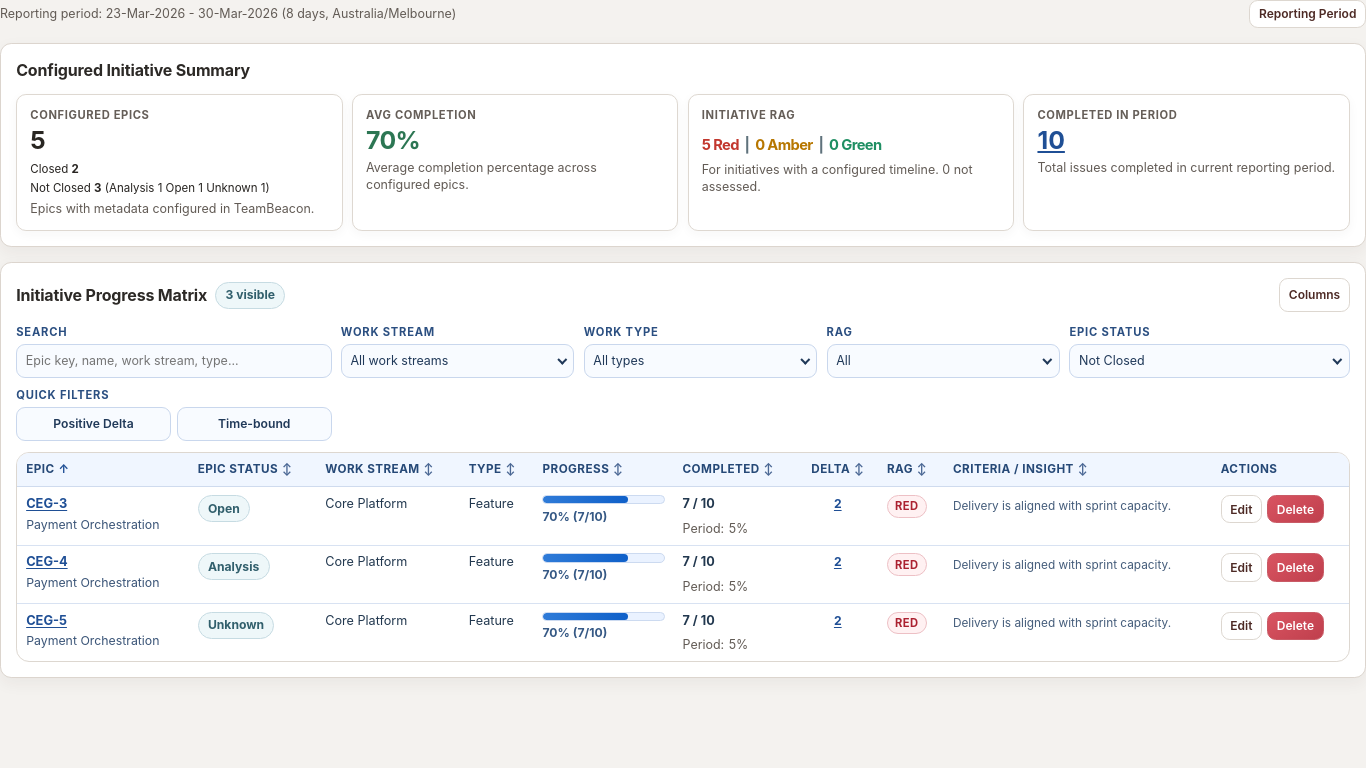
InitiativesScreen › summarizes all selected-view epic statuses independently of matrix filters
Expected: the link "CEG-3" is shown, [26,496,67,511]
Click the dropdown named "Epic Status". click: (1112, 360)
box: [1070,344,1350,378]
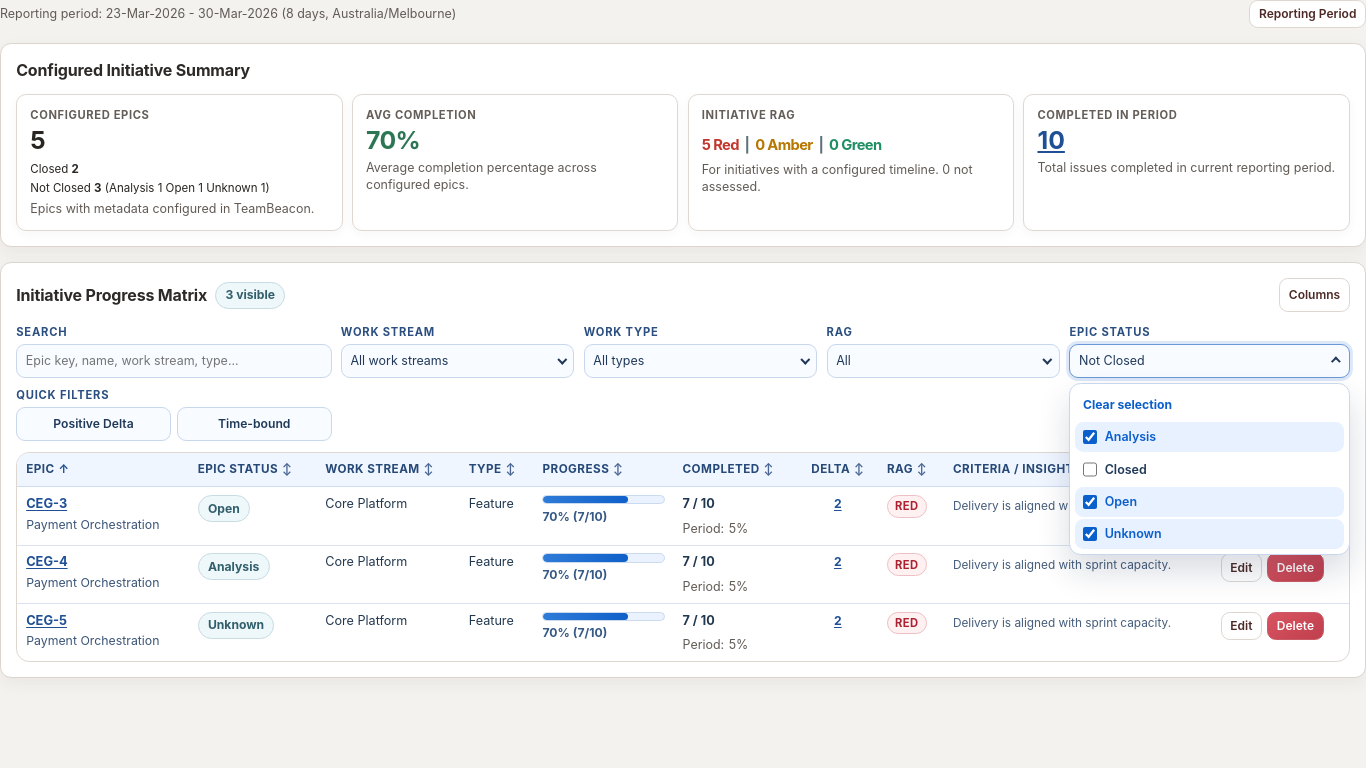
Click the button "Clear selection". click: (1127, 404)
box: [1075,388,1344,420]
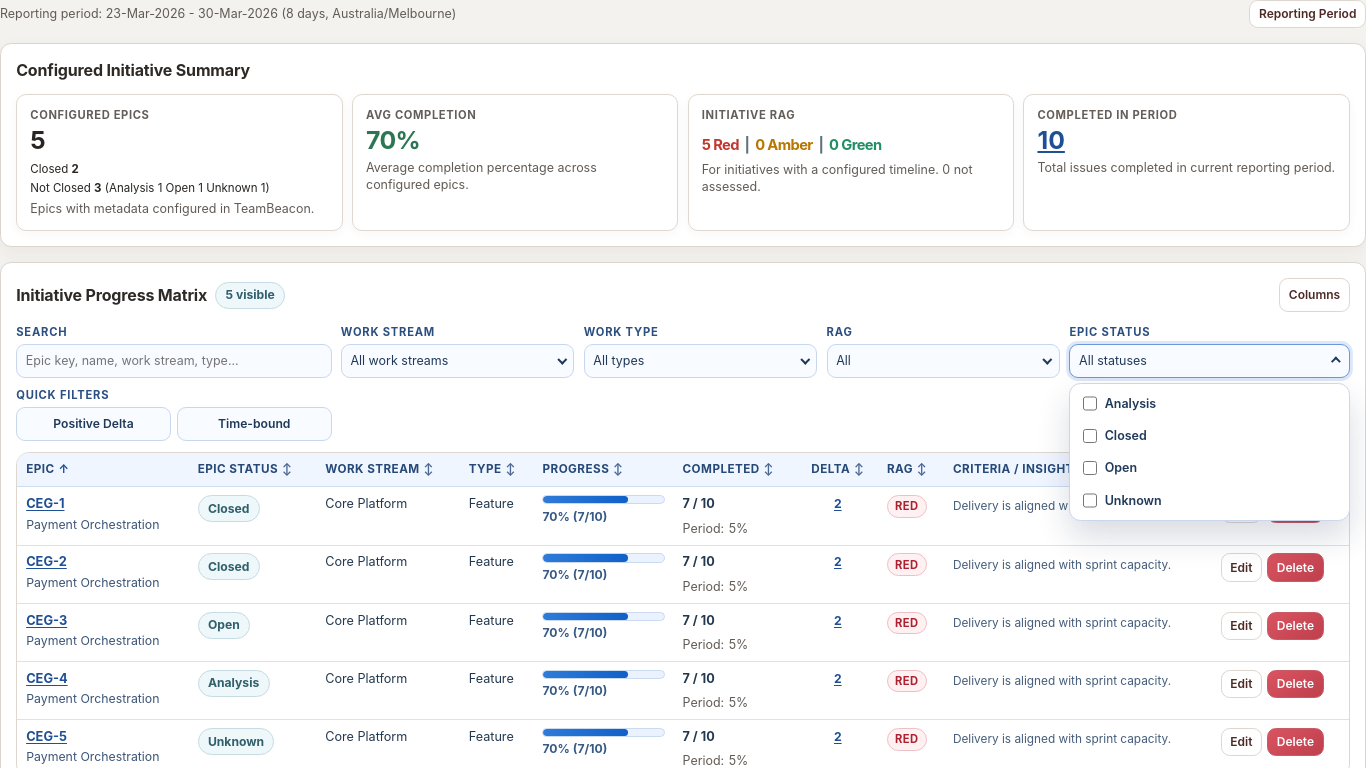
Click the checkbox labelled "Closed". click: (1090, 436)
box: [1083,429,1097,443]
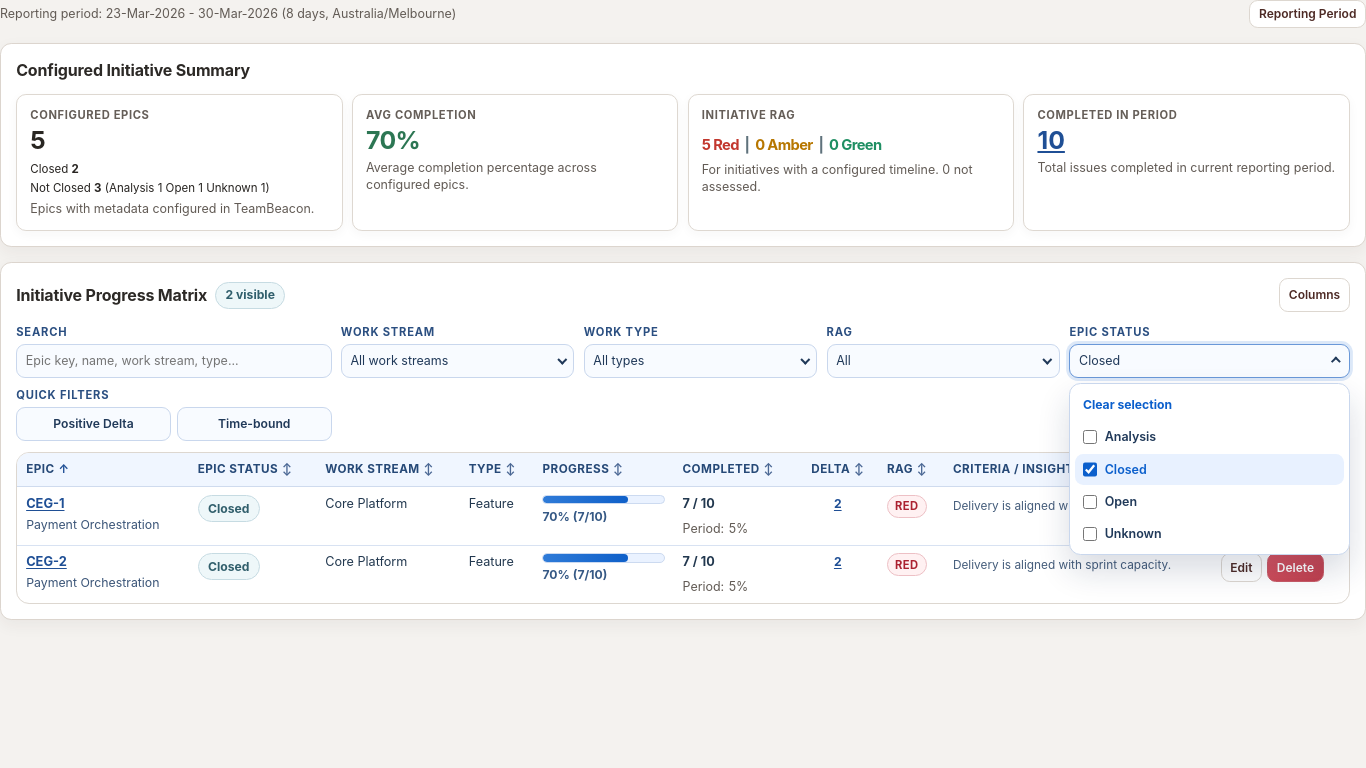
Result: the text "2 visible" is shown at [215,282,285,309]
Type "no match" into the field with placeholder "Epic key, name, work stream, type...". click: (174, 361)
box: [16,344,332,378]
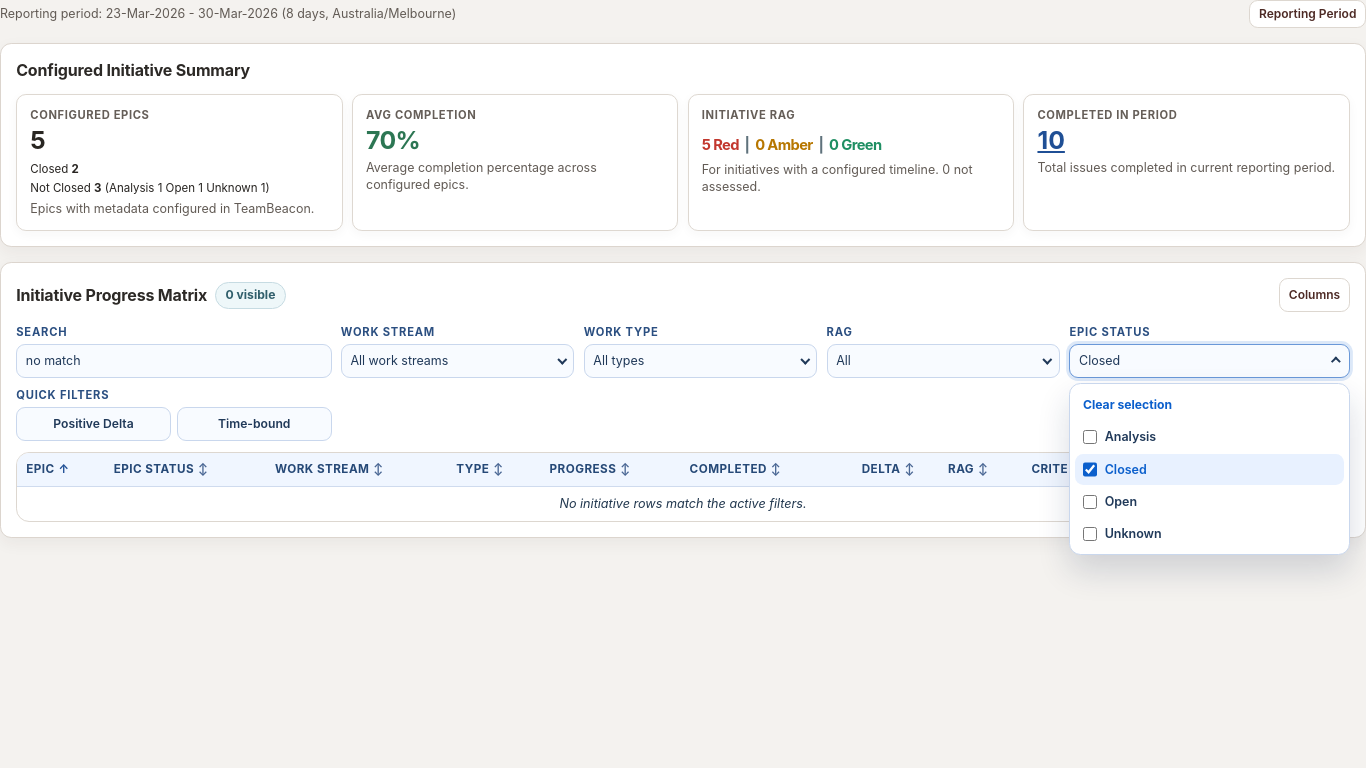
Result: the text "0 visible" is shown at [215,282,286,309]
